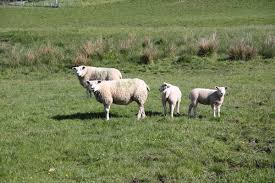sheep: (86, 79, 150, 123), (73, 64, 124, 97), (186, 86, 225, 124), (159, 84, 186, 120)
